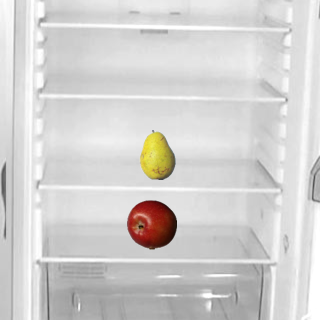Apple Braeburn: (126, 199, 176, 249)
Pear Monster: (132, 129, 182, 179)
